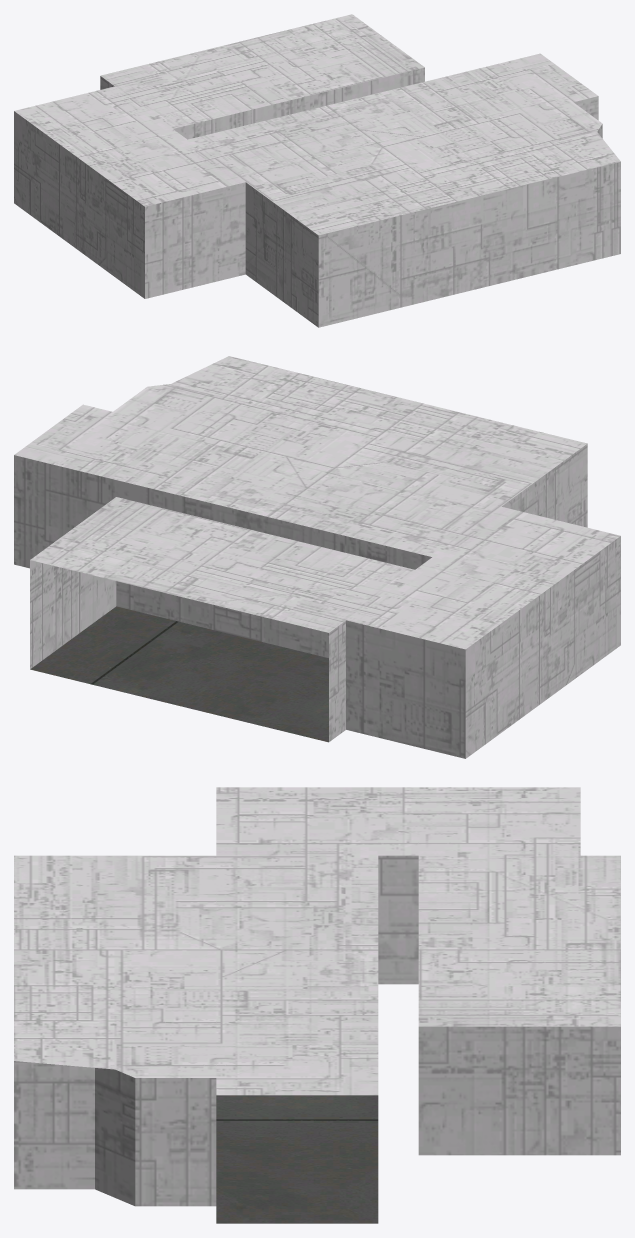
Rendered from thm_spc_star_destroyer_s01_r42_decontamination_mesh_r42.fbx.
3 views of the same model, one above another, from view 1: azimuth 30°, elevation 25°; view 2: azimuth 150°, elevation 25°; view 3: azimuth 270°, elevation 25° (orthographic). The views are drawn at different scales.
Visible parts, largest first — view 1: mesh_node; view 2: mesh_node; view 3: mesh_node.
Part boxes in pixels (x1,y1,x2,y2): mesh_node: (14, 14, 620, 327); mesh_node: (14, 356, 620, 758); mesh_node: (14, 787, 620, 1223).
Bounding box in the file's own units: 18 × 3.5 × 15.
2 materials, 2 textured.
